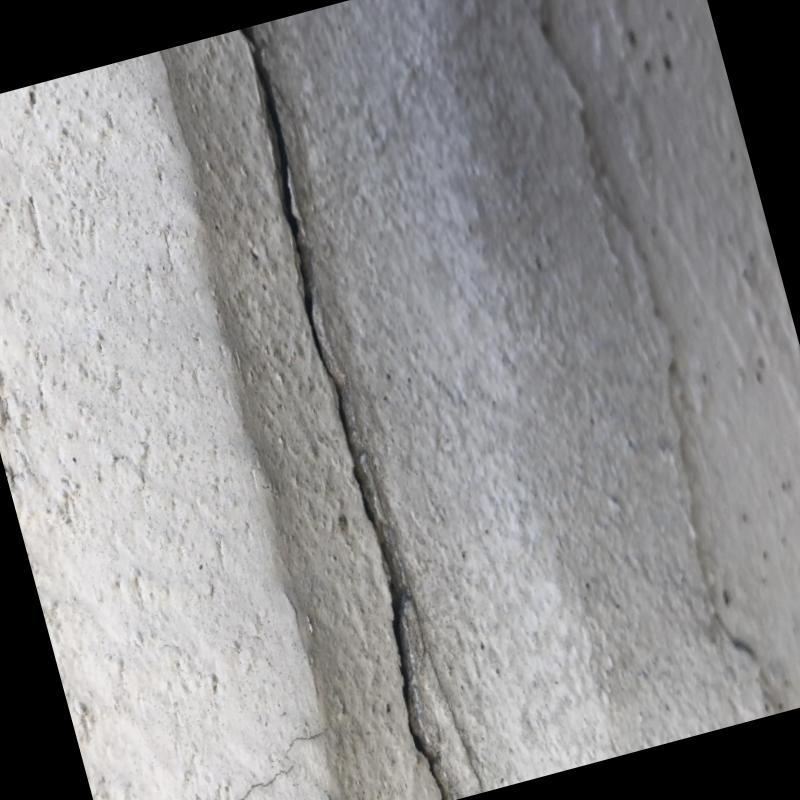pothole: (239, 25, 452, 800)
